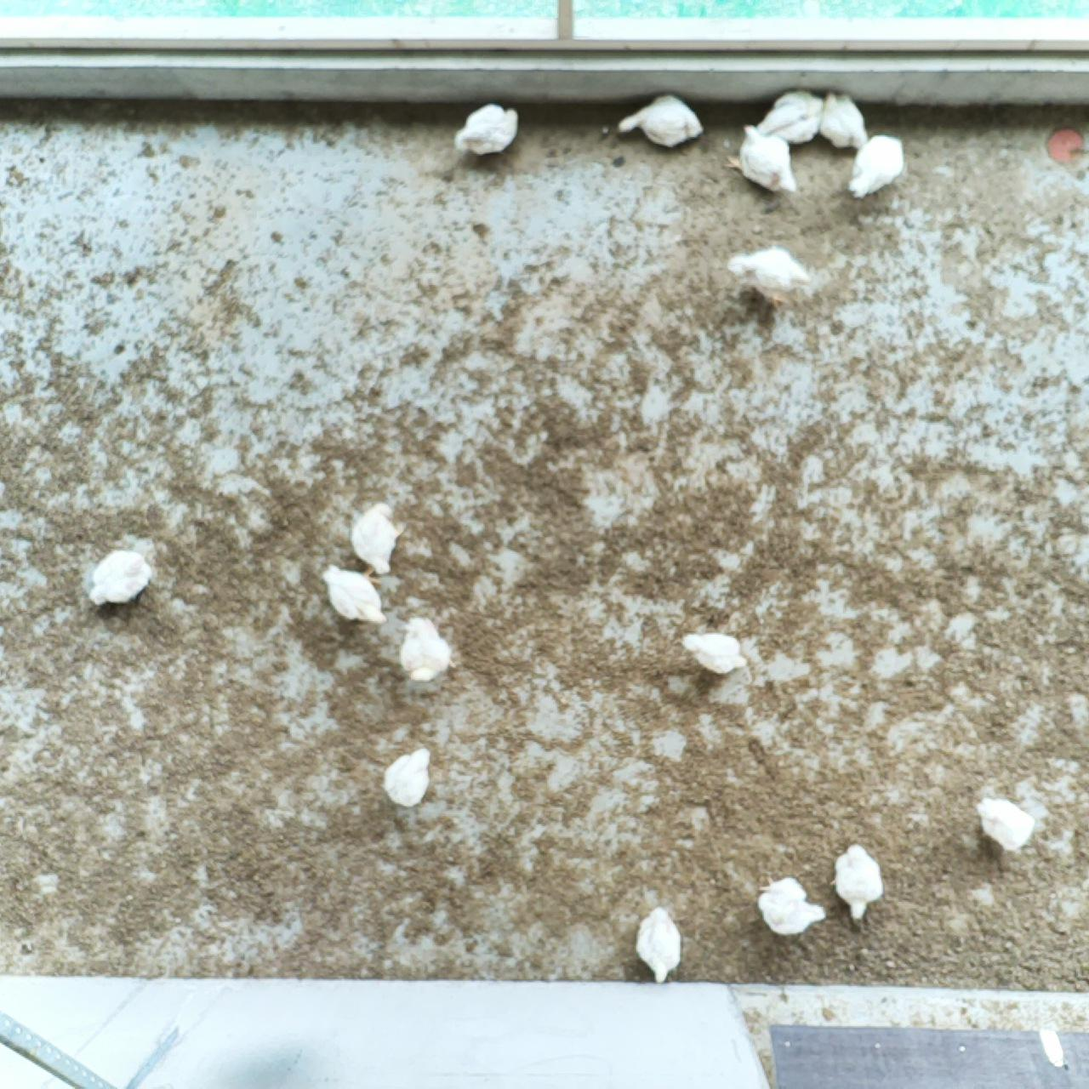chicken: (725, 242, 817, 314), (719, 122, 798, 197), (612, 90, 707, 148), (345, 498, 412, 579), (751, 869, 827, 939), (828, 839, 888, 926), (82, 544, 157, 610), (631, 904, 688, 990), (397, 613, 463, 686), (317, 560, 387, 628), (450, 98, 521, 164), (757, 84, 828, 146), (971, 790, 1038, 854), (845, 132, 908, 200), (377, 744, 438, 813), (678, 628, 751, 678), (817, 87, 869, 150)
